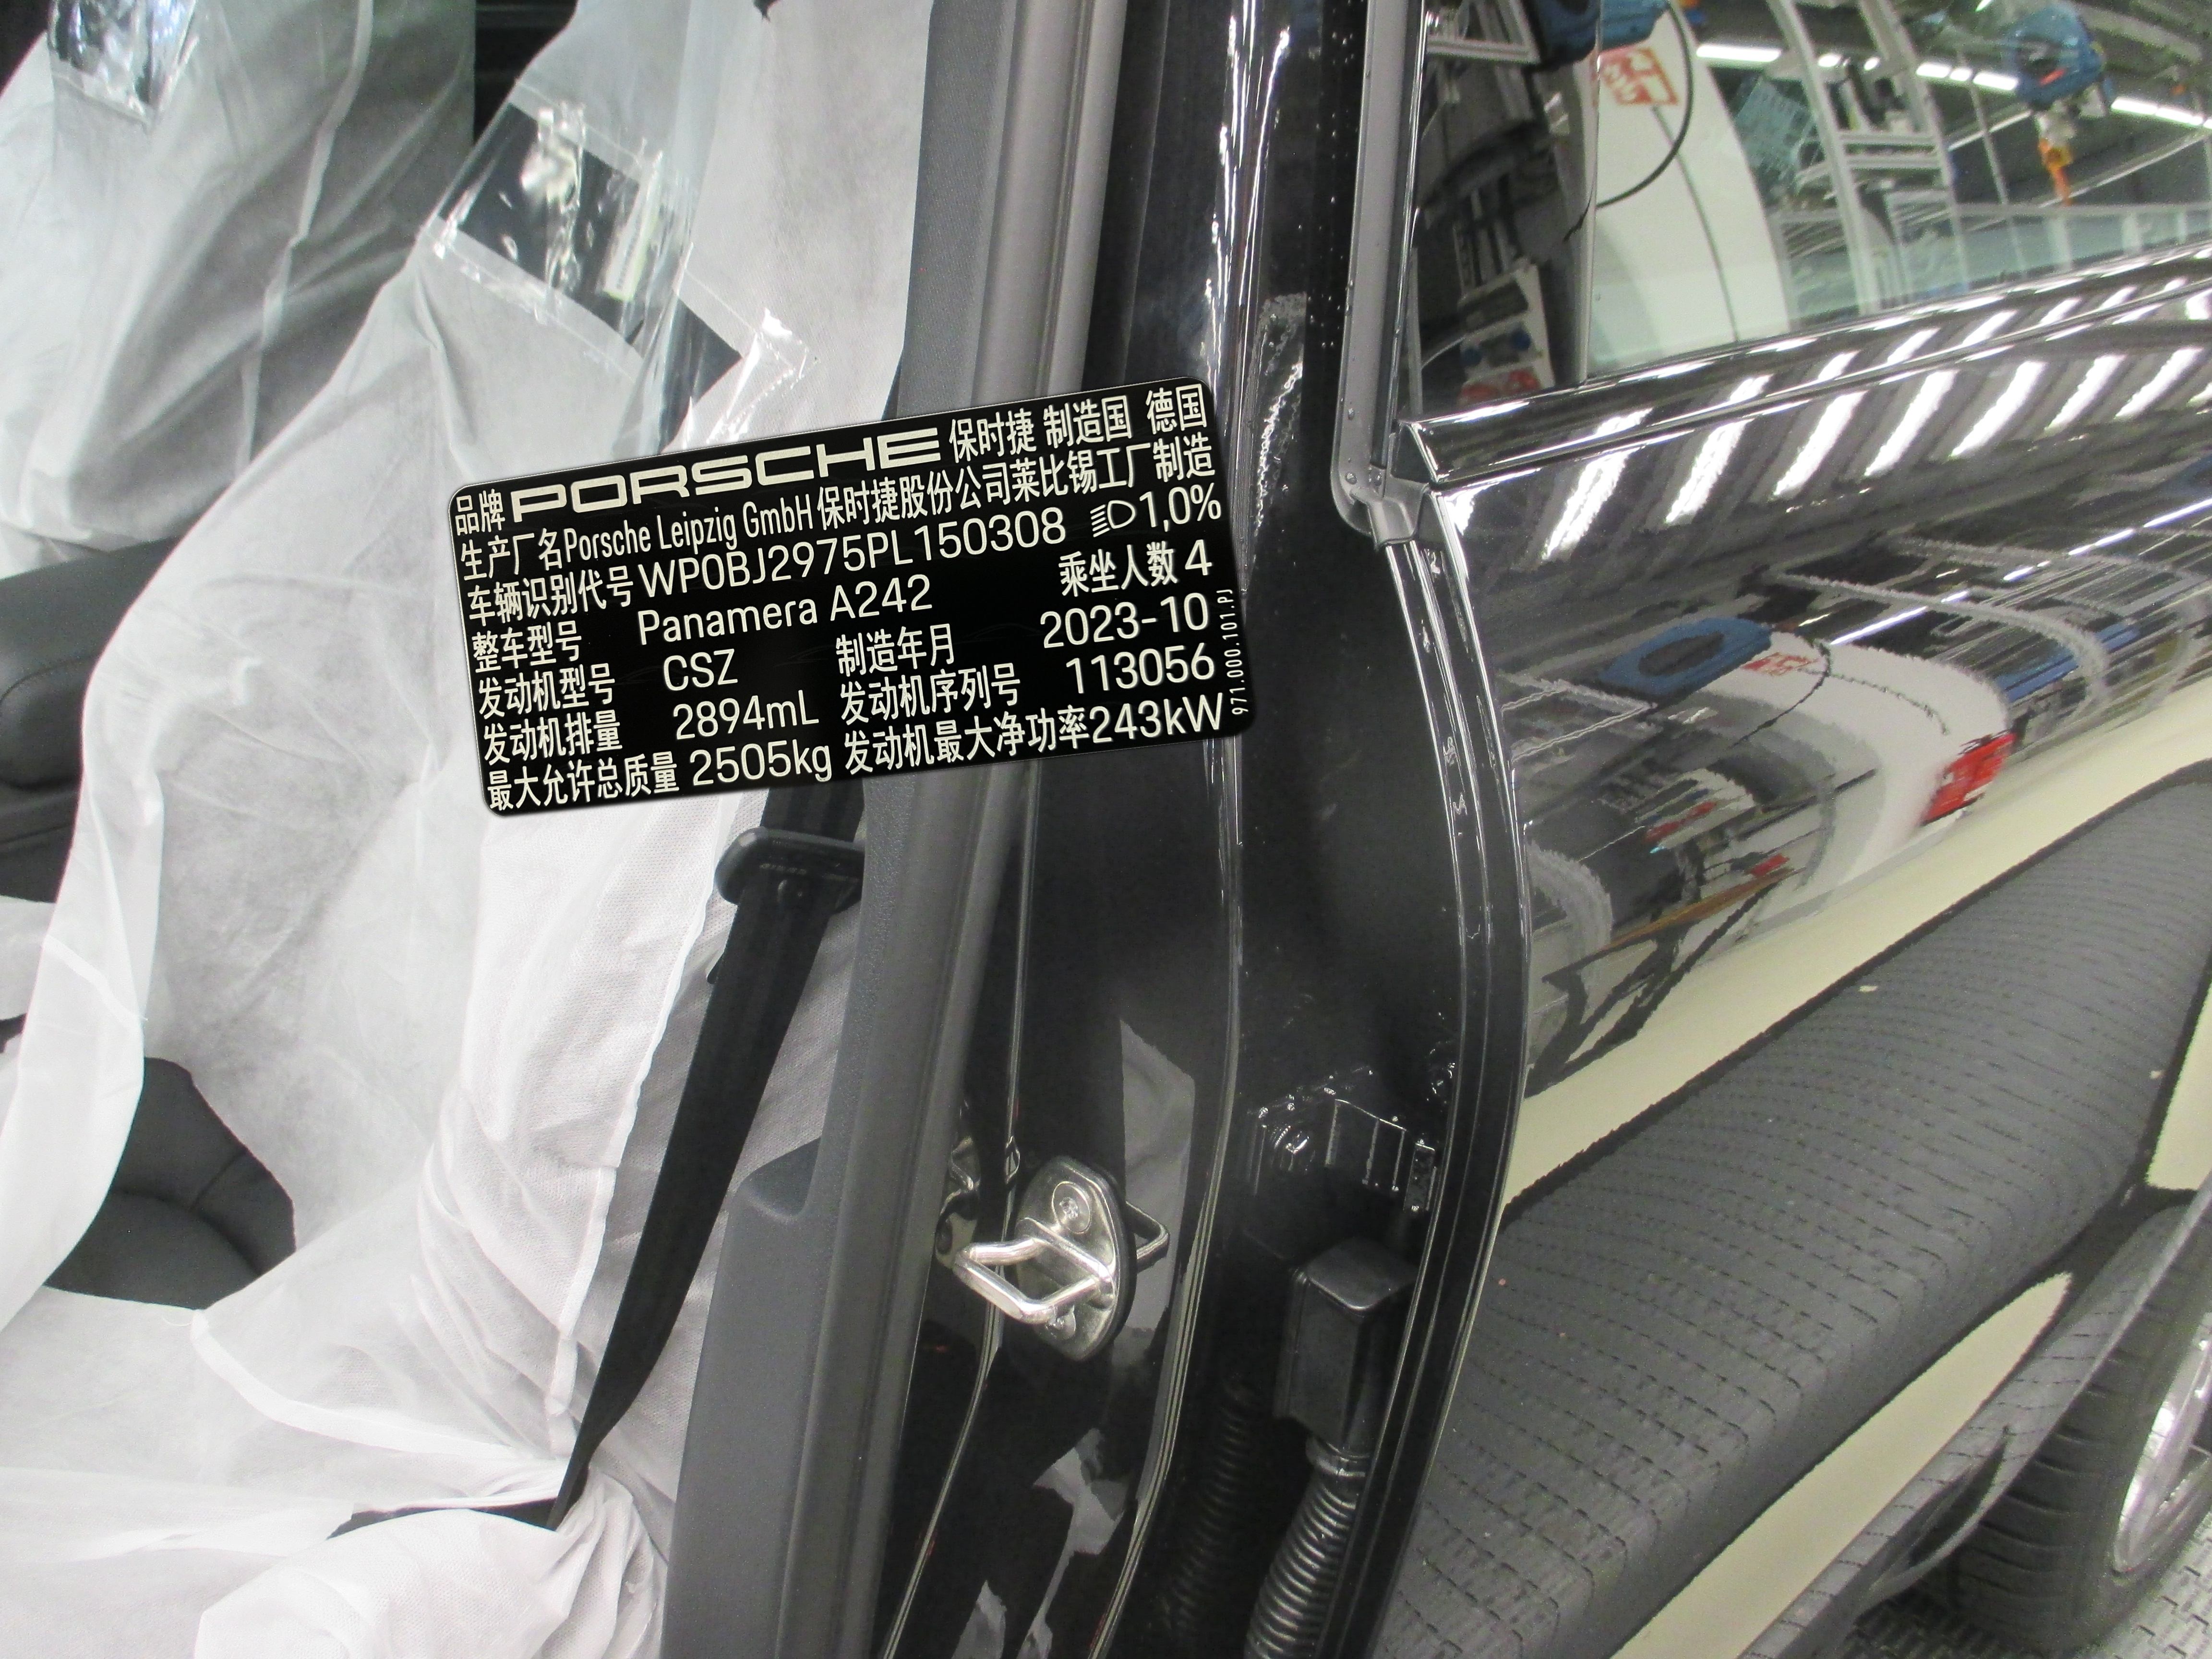Typlabel-China: (448, 376, 1256, 817)
